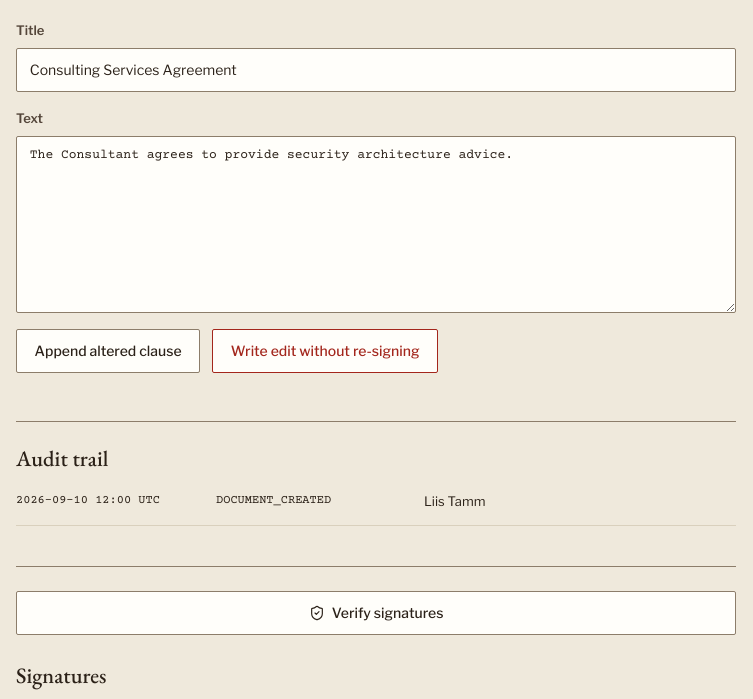
Test: DocuTrust dashboard › refuses to write an unchanged document
(page scrolled)
Click the button "Write edit without re-signing" at (325, 351), box x1=212 y1=329 x2=438 y2=373
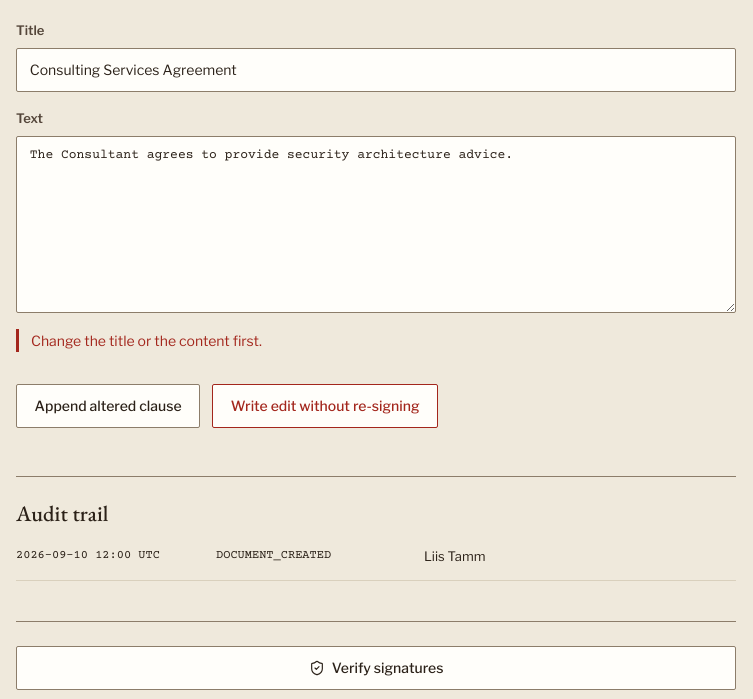
Expected: the message reads "Change the title or the content first.", x1=31 y1=332 x2=262 y2=349
